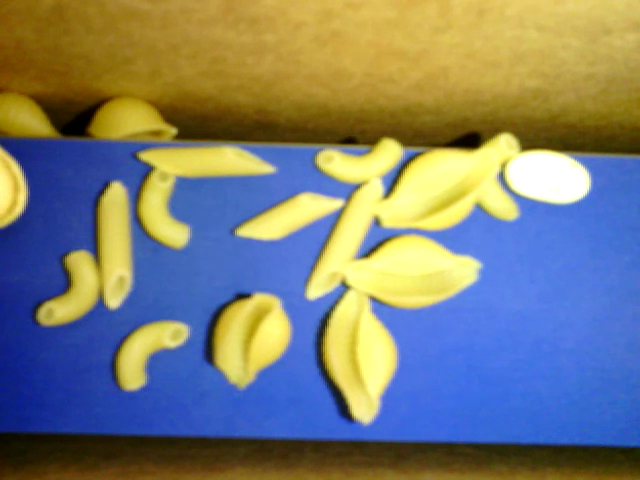elbow: (34, 247, 105, 326), (136, 161, 193, 253), (113, 321, 184, 392), (473, 130, 522, 225), (315, 137, 404, 185)
penne: (304, 171, 386, 296), (228, 189, 348, 238), (93, 180, 134, 310), (136, 143, 280, 176)
shell: (331, 233, 484, 314), (315, 284, 399, 427), (370, 148, 500, 233), (208, 289, 292, 388), (86, 93, 176, 143), (1, 88, 60, 143)
tortellini: (1, 144, 28, 233)
